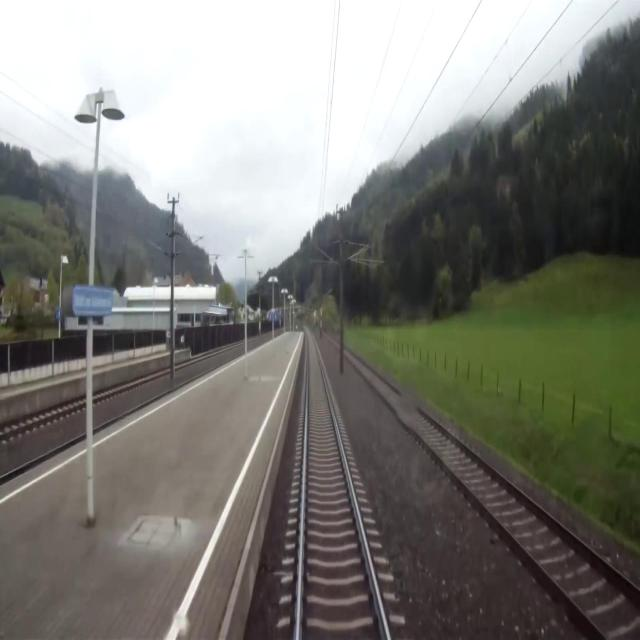rail-track: (344, 348, 640, 639), (300, 332, 385, 639)
